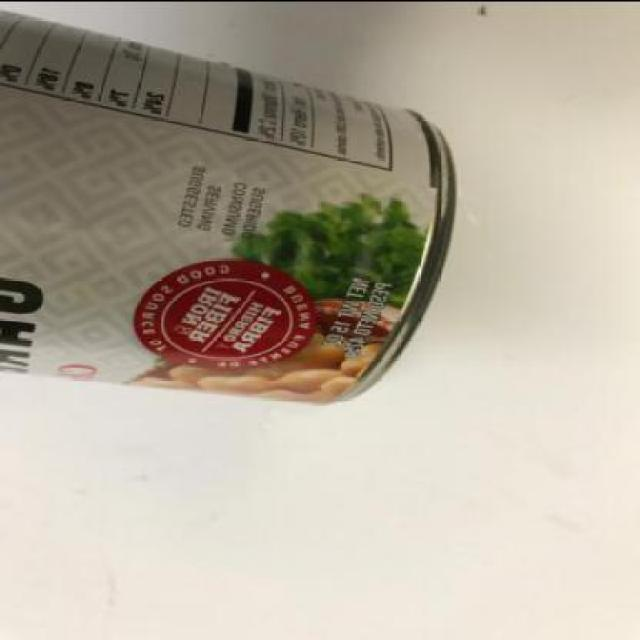METAL: (1, 10, 462, 405)
